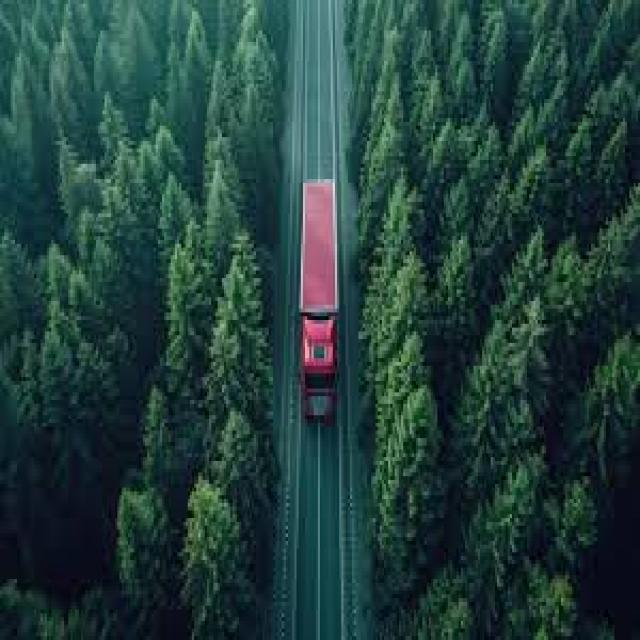truck: (300, 181, 340, 424)
